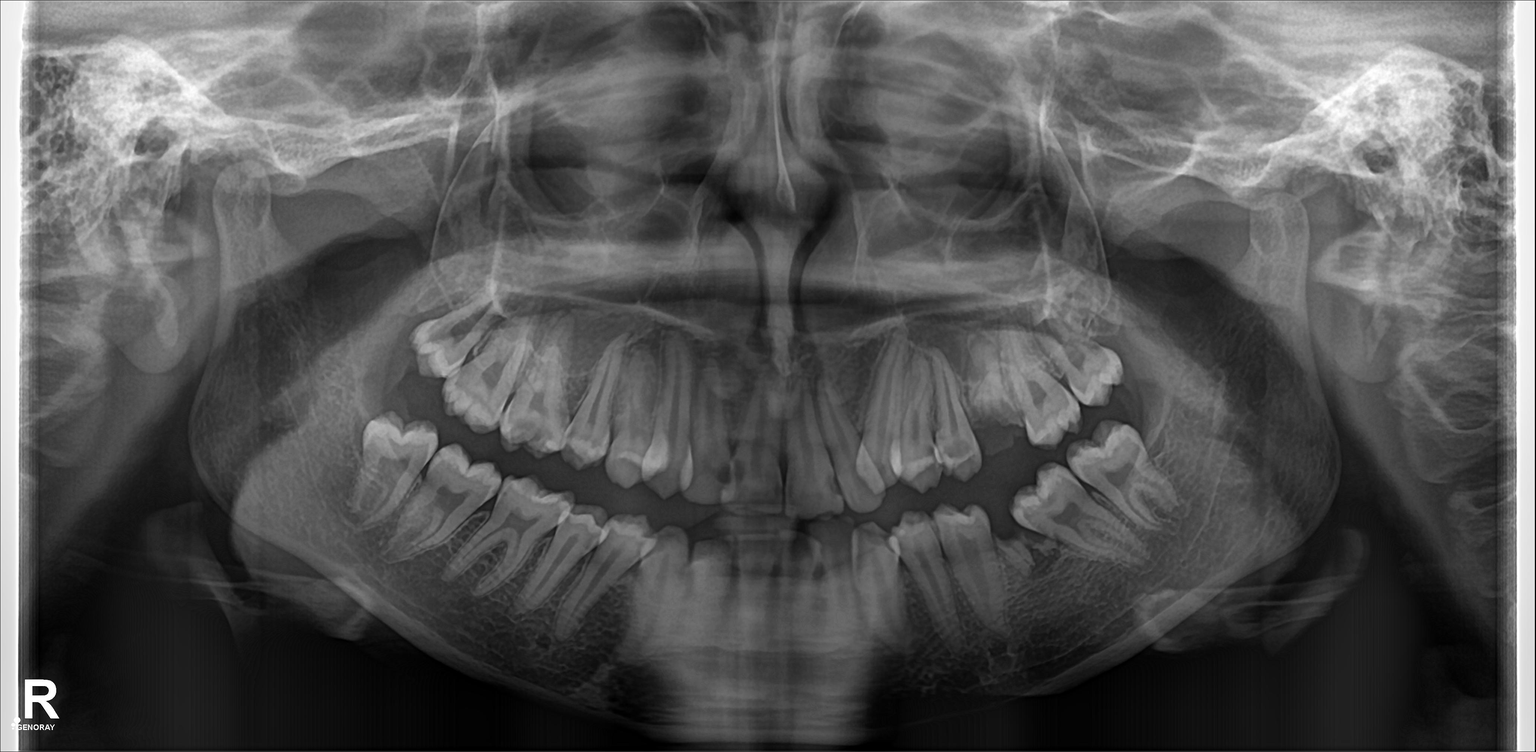Dental Caries: (976, 411, 1018, 451), (704, 460, 746, 483)
Impacted Third Molar: (406, 305, 493, 371)
Retained Root: (998, 514, 1037, 584)
Tooth Fracture: (959, 342, 1024, 454)
